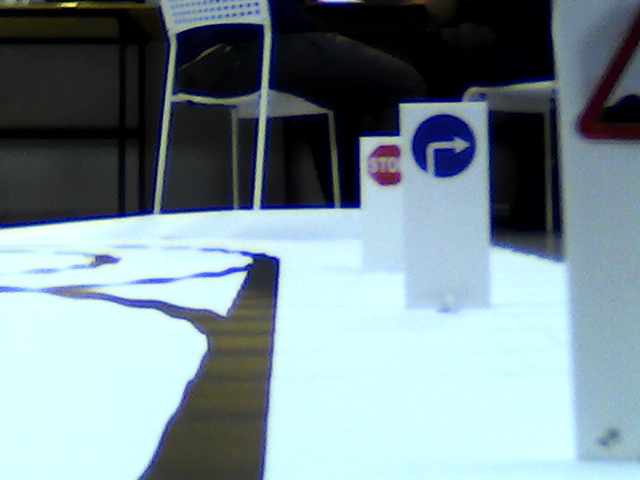Right: (412, 115, 478, 182)
Stop: (366, 144, 402, 188)
